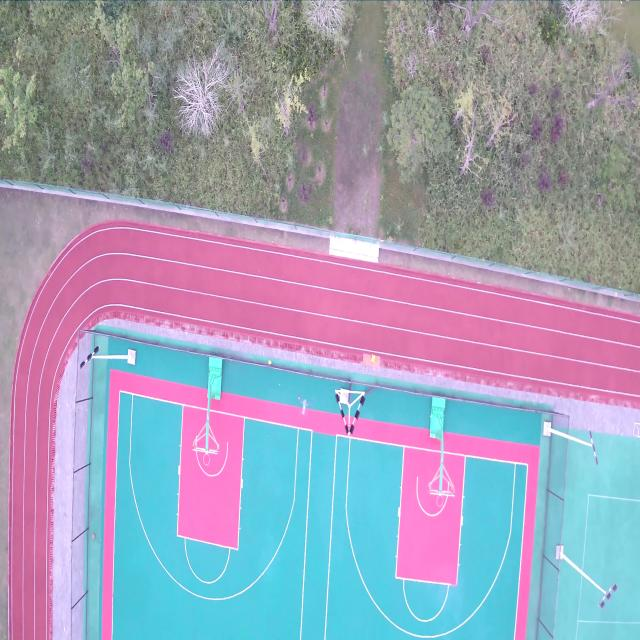UAV: (296, 395, 312, 420)
